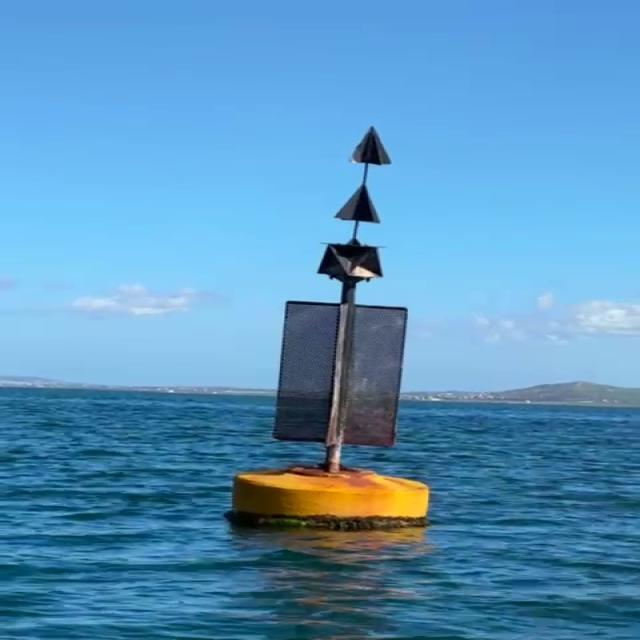marque: (242, 122, 426, 543)
